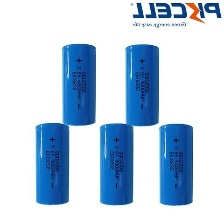battery: (31, 119, 72, 209), (121, 41, 162, 129), (156, 121, 195, 208), (61, 40, 100, 125), (98, 121, 136, 206)
